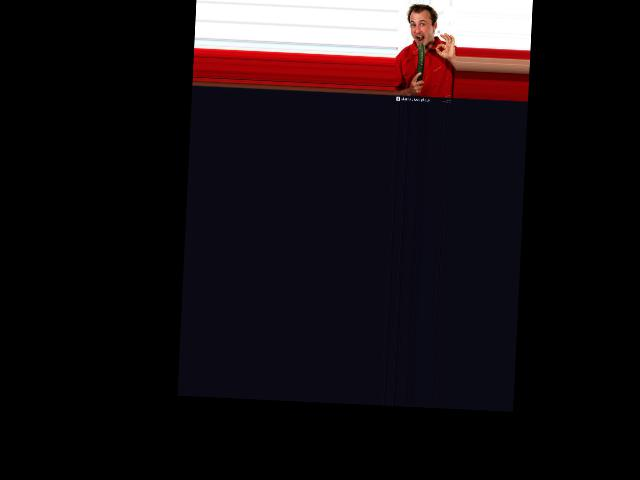cucumber: (417, 42, 424, 81)
